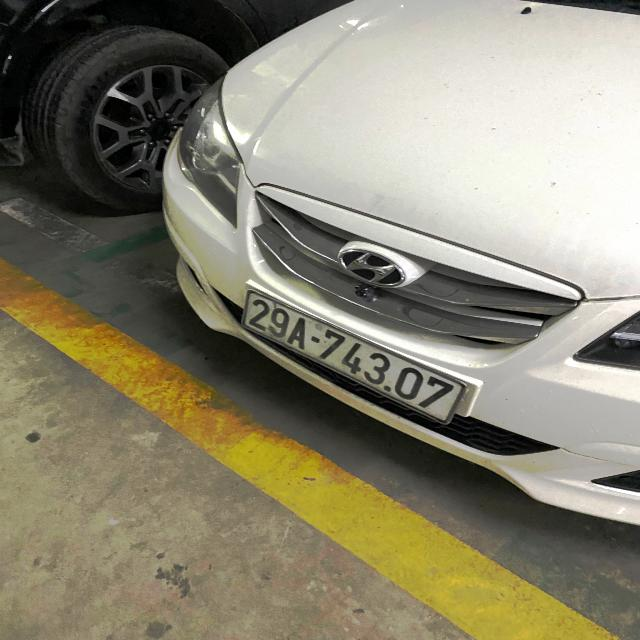license_plate: (231, 278, 478, 431)
